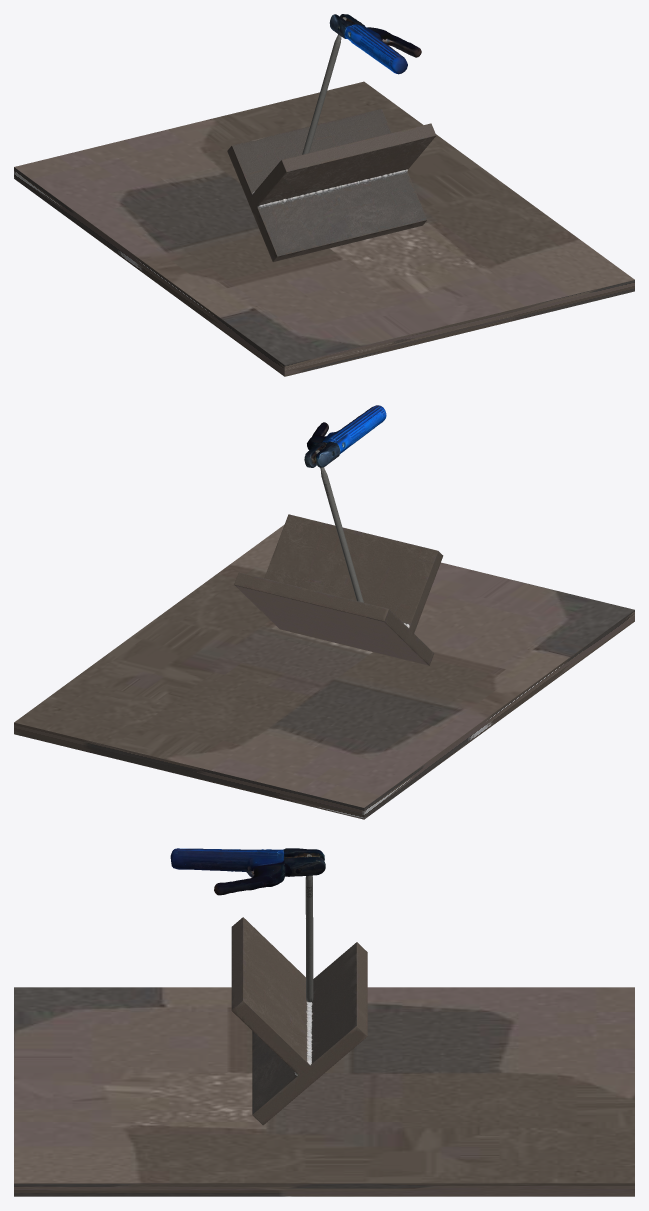
Rendered from 1F-pos.glb.
3 views of the same model, one above another, from view 1: azimuth 30°, elevation 25°; view 2: azimuth 150°, elevation 25°; view 3: azimuth 270°, elevation 25° (orthographic). The views are drawn at different scales.
Parts seen in each view (by area): view 1: Meshy_Welded Steel T-Joint_mesh_node, 3DModel; view 2: Meshy_Welded Steel T-Joint_mesh_node, 3DModel; view 3: Meshy_Welded Steel T-Joint_mesh_node, 3DModel.
Part boxes in pixels (x1,y1,x2,y2): Meshy_Welded Steel T-Joint_mesh_node: (14, 81, 634, 376); 3DModel: (302, 14, 421, 154); Meshy_Welded Steel T-Joint_mesh_node: (14, 514, 634, 819); 3DModel: (304, 405, 386, 602); Meshy_Welded Steel T-Joint_mesh_node: (14, 917, 634, 1196); 3DModel: (170, 848, 325, 1002).
Size of the model in its own units: 4.44 by 2.7 by 5.95.
3 materials, 3 textured.
